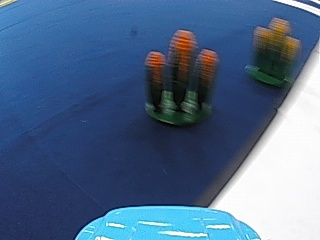corn: (142, 25, 221, 125), (248, 14, 300, 87)
